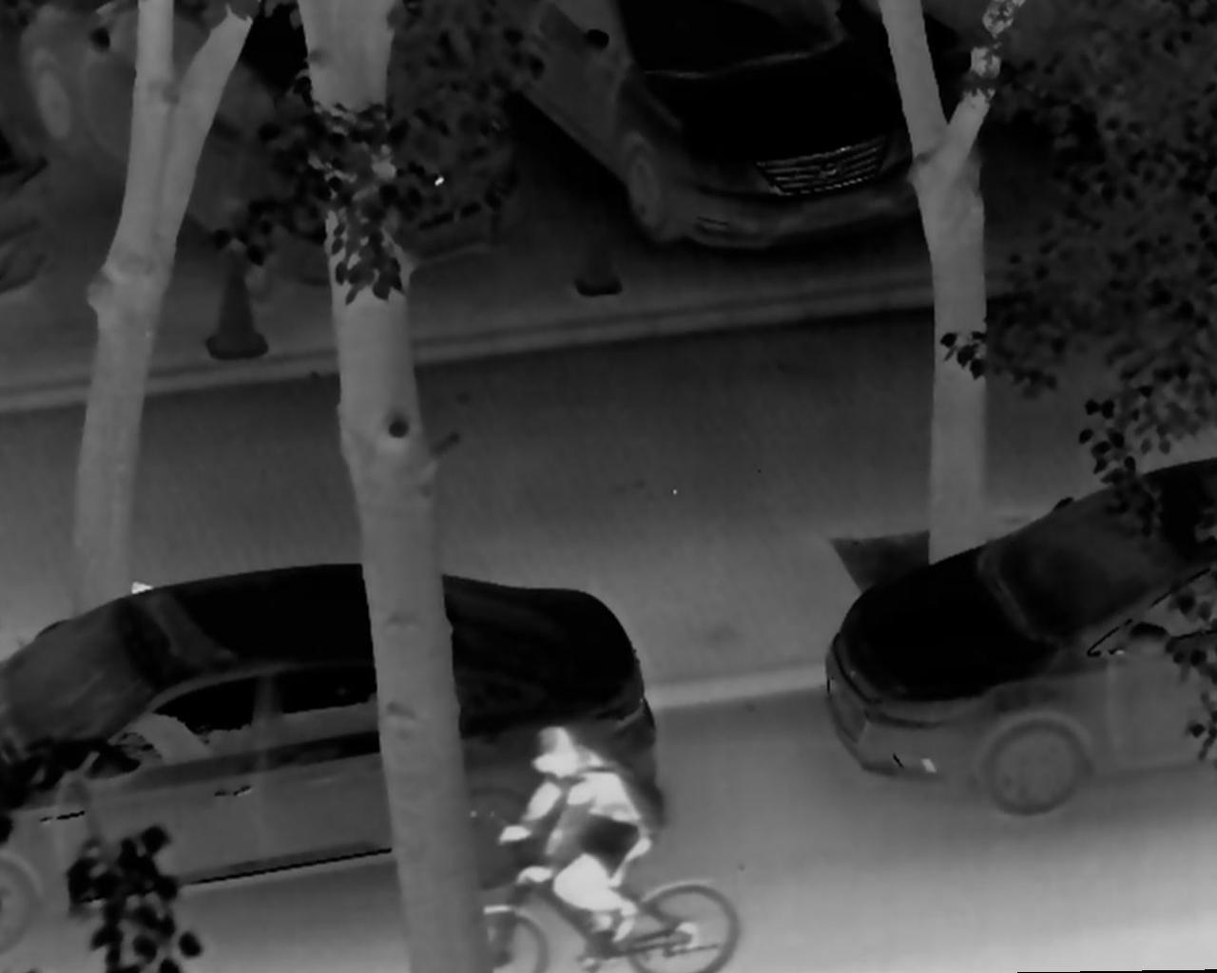person: (495, 723, 654, 954)
